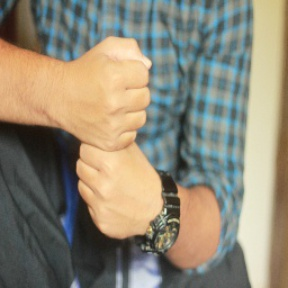G: (63, 30, 173, 243)
